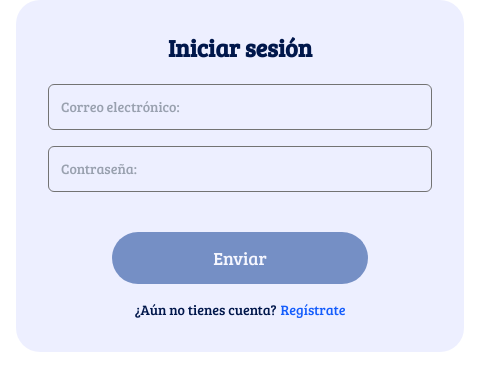
LoginForm › el botón de entrega debería estar habilitado si todos los campos son válidos
In the field with placeholder "Correo electrónico:": {"x": 240, "y": 107} [48,84,432,130], type "test@example.com"
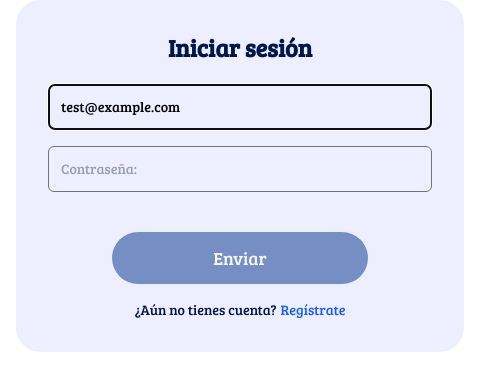
In the password field with placeholder "Contraseña:": {"x": 240, "y": 169} [48,146,432,192], type "1234"
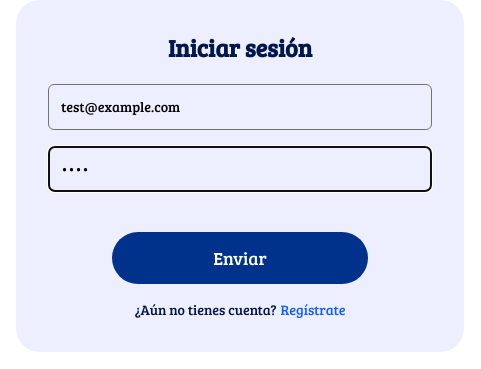
Expected: the button "Enviar" is enabled, [112,232,368,284]
